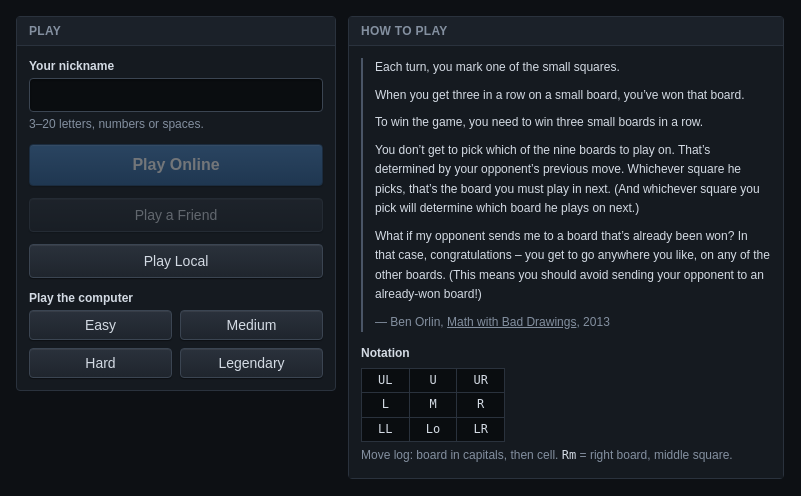
Test: MainMenu nickname validation › disables Play Online when invalid and shows errors on blur
The width and height of the screenshot is (801, 496).
expect the button "Play Online" is disabled: met, box [29,144,323,186]
Type "Jo" into the field labelled "Your nickname".
click(176, 95); type("Jo")  # box [29,78,323,112]
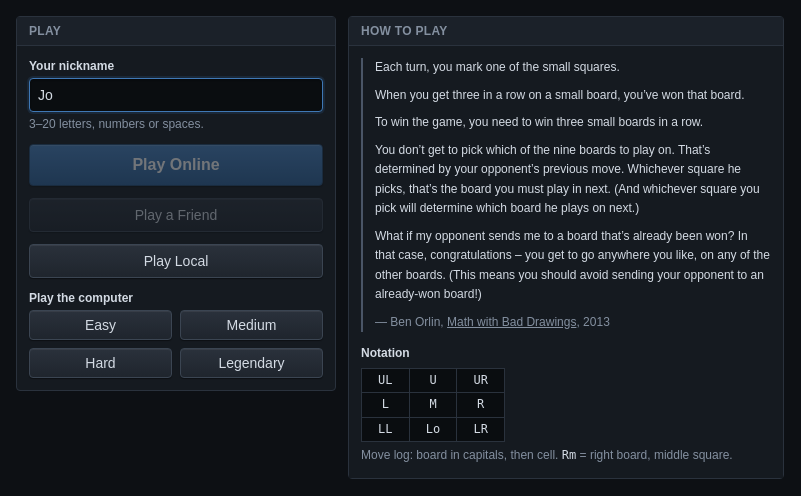
Press Tab
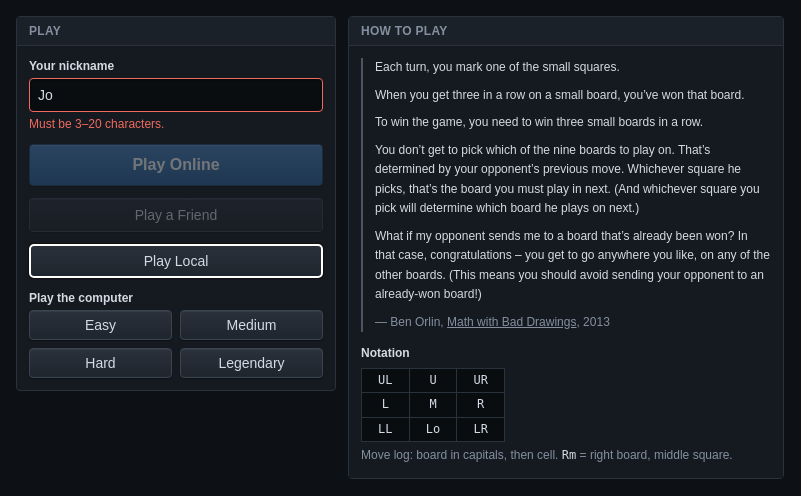
expect the button "Play Online" is disabled: met, box [29,144,323,186]
expect the text "Must be 3–20 characters." is shown: met, box [29,117,164,131]
